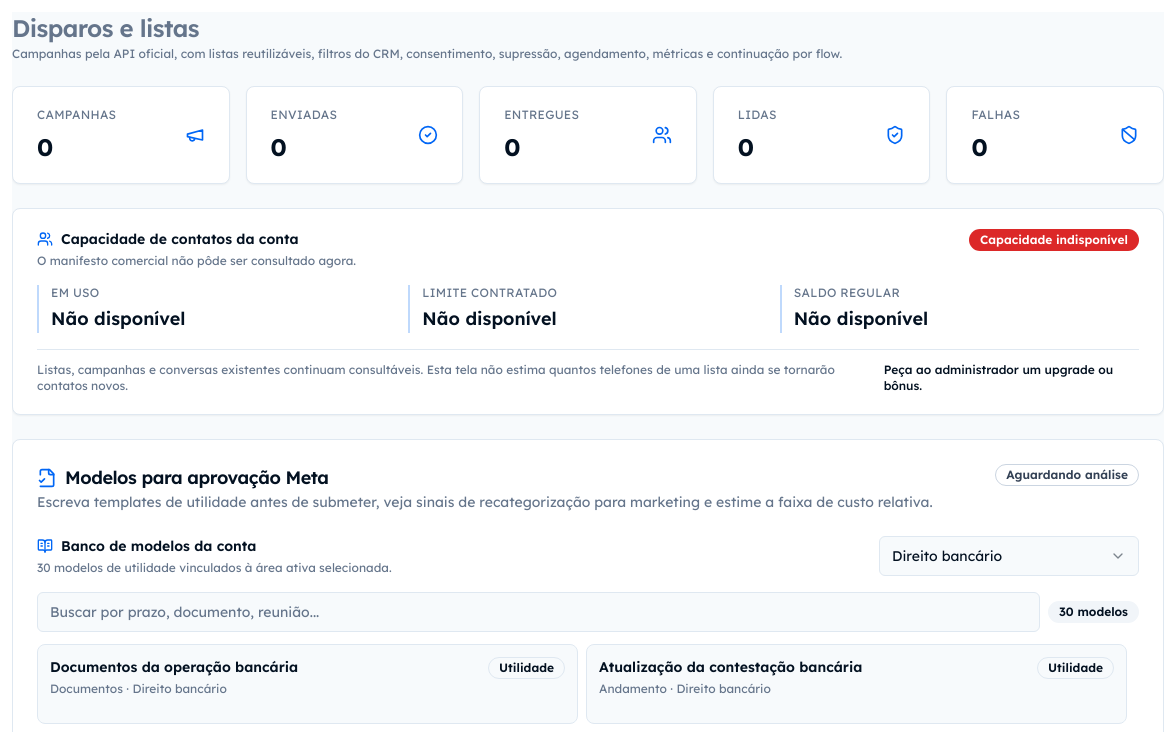
Campaigns: ajuda técnica e contexto de Conversas › apresenta modelos próprios para outras áreas jurídicas ativas
The width and height of the screenshot is (1164, 732).
Expected: the button with aria-label "Usar modelo Documentos da operação bancária" is shown, [37,644,578,724]
Expected: the text "30 modelos" is shown, [1048,601,1139,623]
Click the dropdown named "Área do banco de modelos" at (947, 556), box [879,536,1139,576]
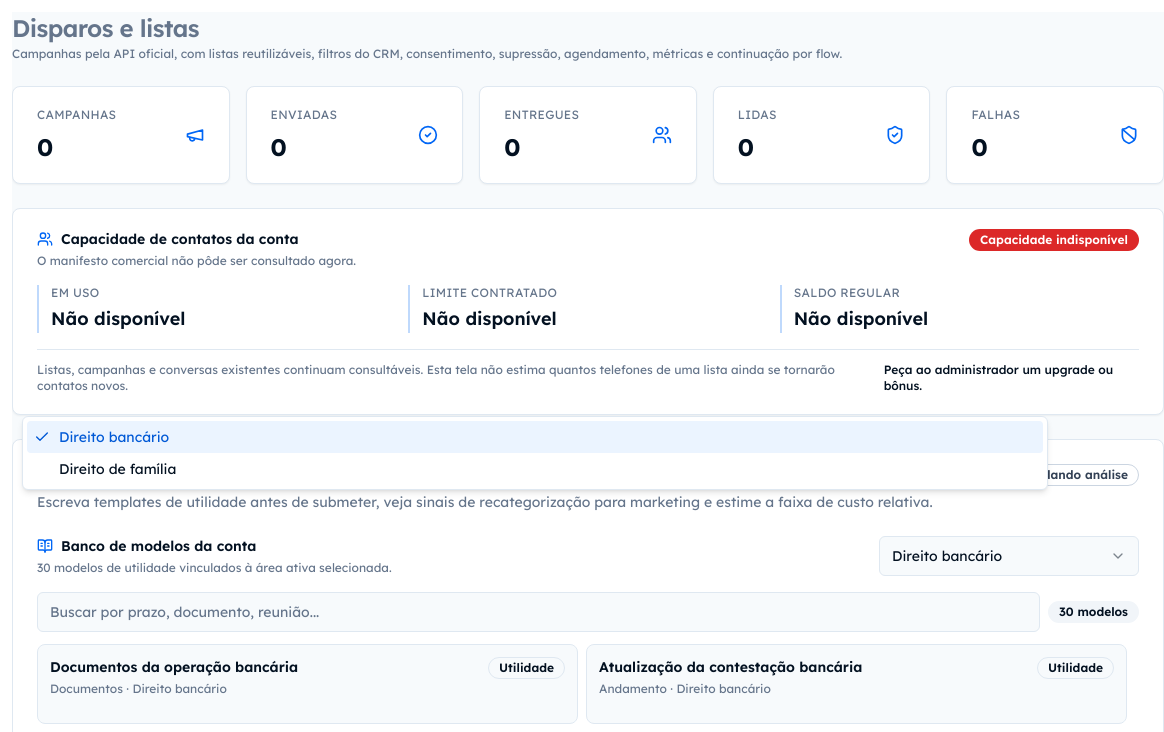
Click the option "Direito de família" at (118, 469), box [59,460,176,478]
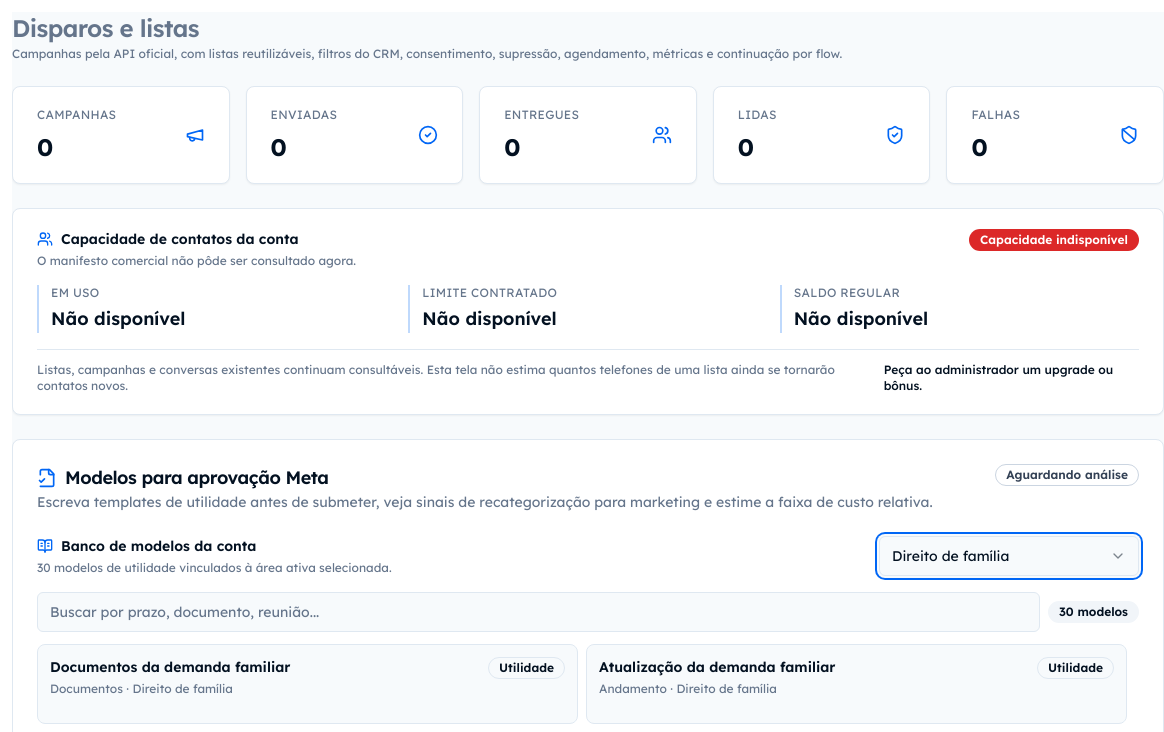
Expected: the button with aria-label "Usar modelo Documentos da demanda familiar" is shown, [37,644,578,724]
